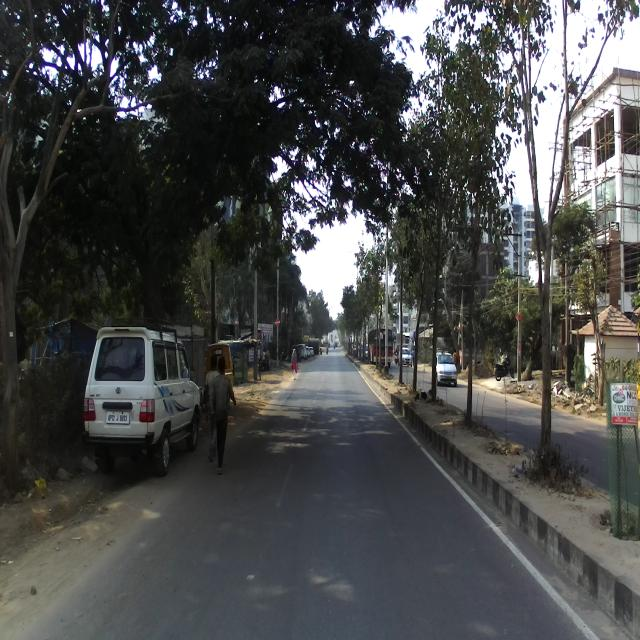car ahead at: (76, 321, 202, 478)
person ahead at: (202, 350, 240, 480)
